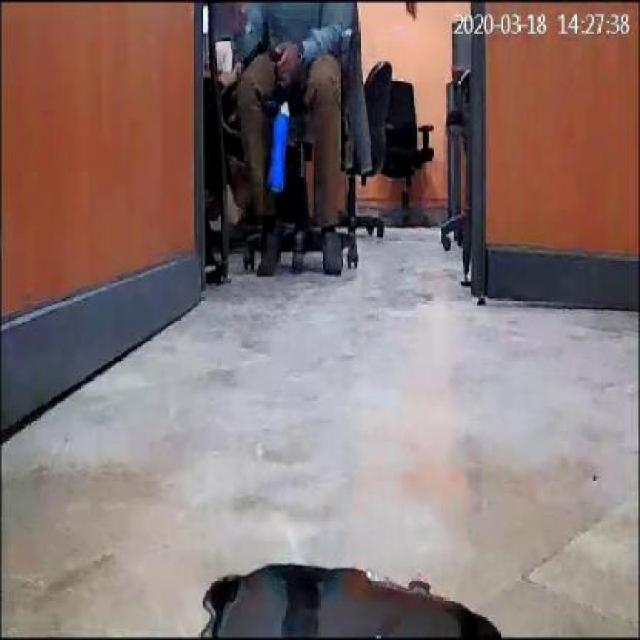spill: (194, 562, 502, 636)
